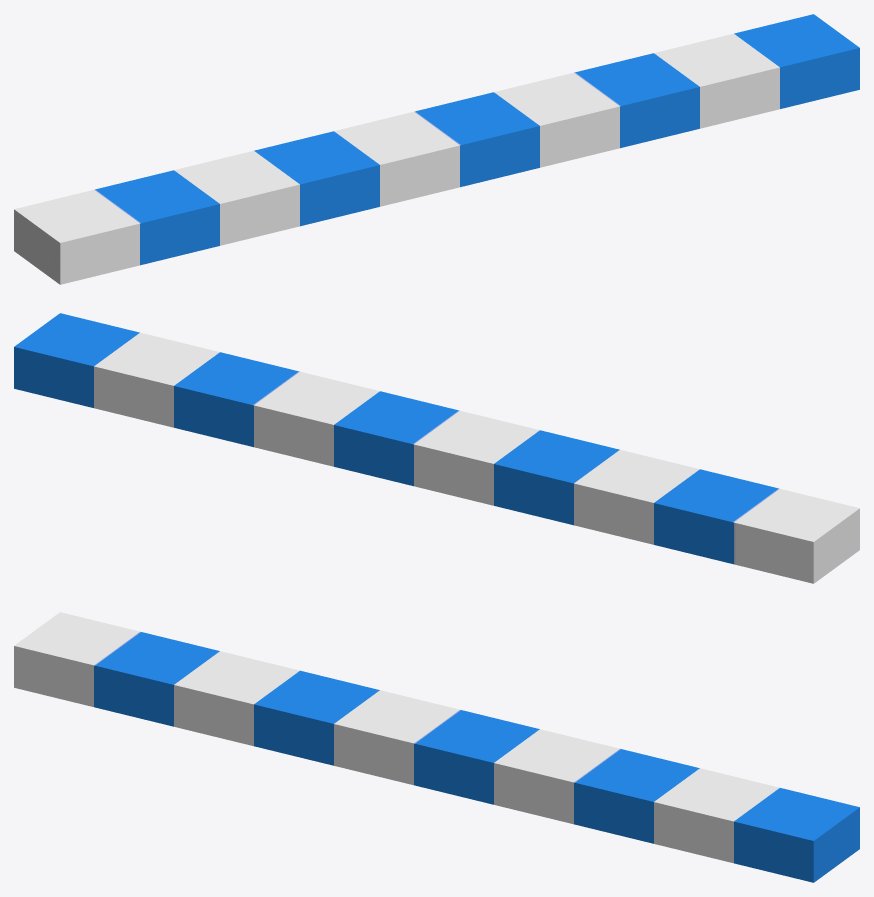
The model's file is p_taman10.fbx.
3 renders of one model, top to bottom at view 1: azimuth 30°, elevation 25°; view 2: azimuth 150°, elevation 25°; view 3: azimuth 330°, elevation 25°, orthographic.
Parts seen in each view (by area): view 1: Cube.002; view 2: Cube.002; view 3: Cube.002.
Part boxes in pixels (x1,y1,x2,y2): Cube.002: (14,14,859,284); Cube.002: (14,313,859,583); Cube.002: (14,612,859,882).
Bounding box in the file's own units: 1000 × 50 × 100.
